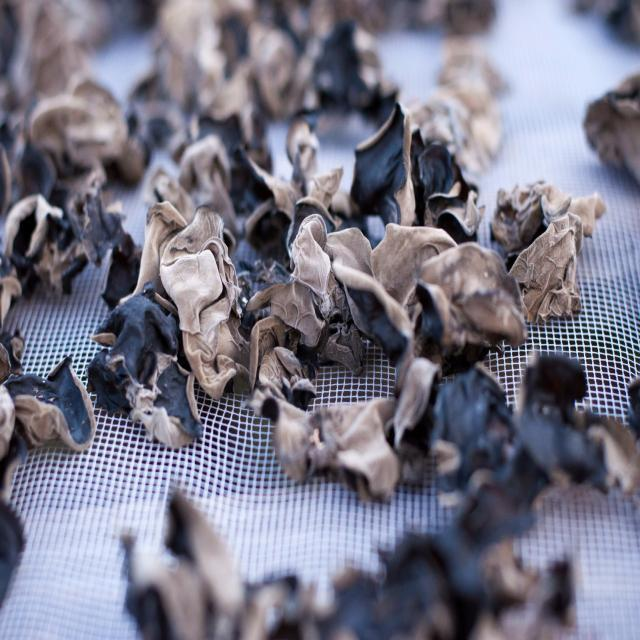Auricularia auricula: (106, 98, 602, 455), (116, 482, 577, 640), (247, 351, 640, 531), (3, 184, 120, 303), (4, 357, 94, 451)
